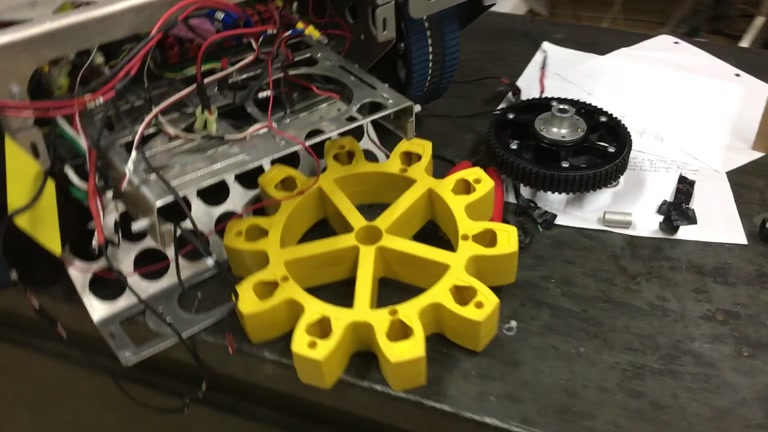gear: (224, 136, 517, 391)
